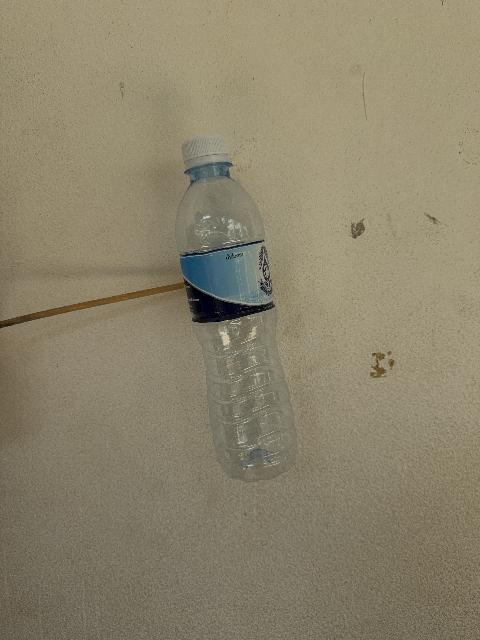bottle: (176, 136, 296, 481)
